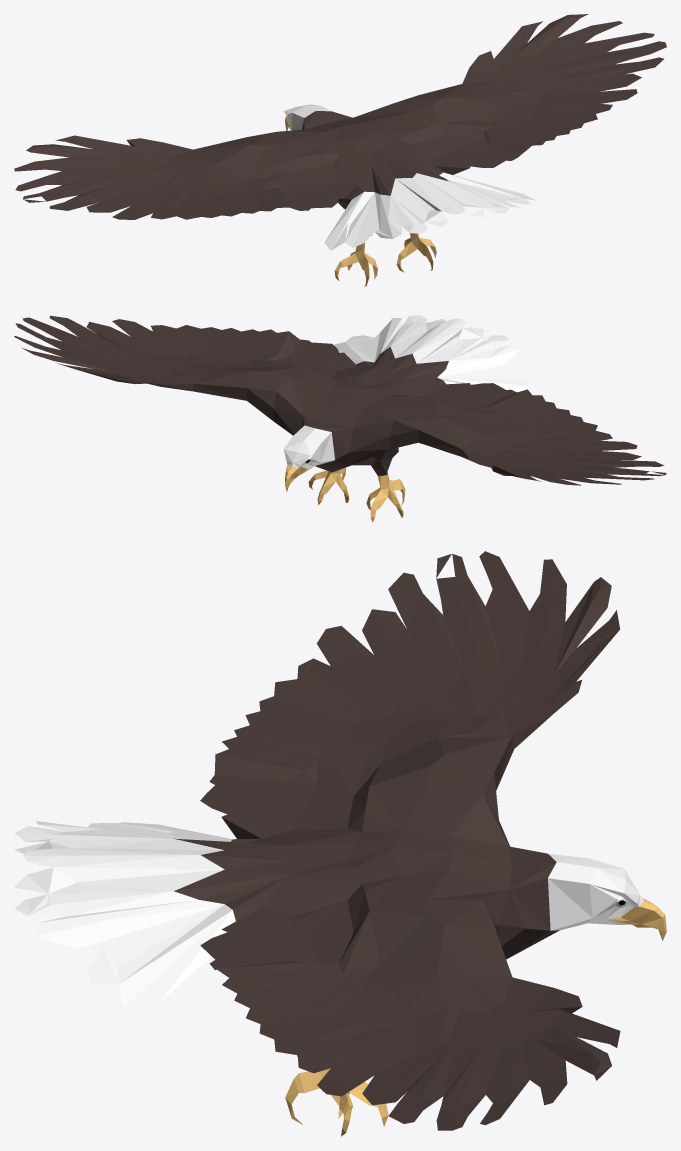
File: adlerFootOut04.dae
3 views of the same model, one above another, from view 1: azimuth 30°, elevation 25°; view 2: azimuth 150°, elevation 25°; view 3: azimuth 270°, elevation 25° (orthographic). The views are drawn at different scales.
Parts seen in each view (by area): view 1: SketchUp (×5); view 2: SketchUp (×5); view 3: SketchUp (×5).
Part boxes in pixels (<box>): SketchUp (×5): <box>15,14,666,286</box>; SketchUp (×5): <box>15,315,664,522</box>; SketchUp (×5): <box>14,551,666,1136</box>.
Size of the model in its own units: 1475 by 706 by 321.
